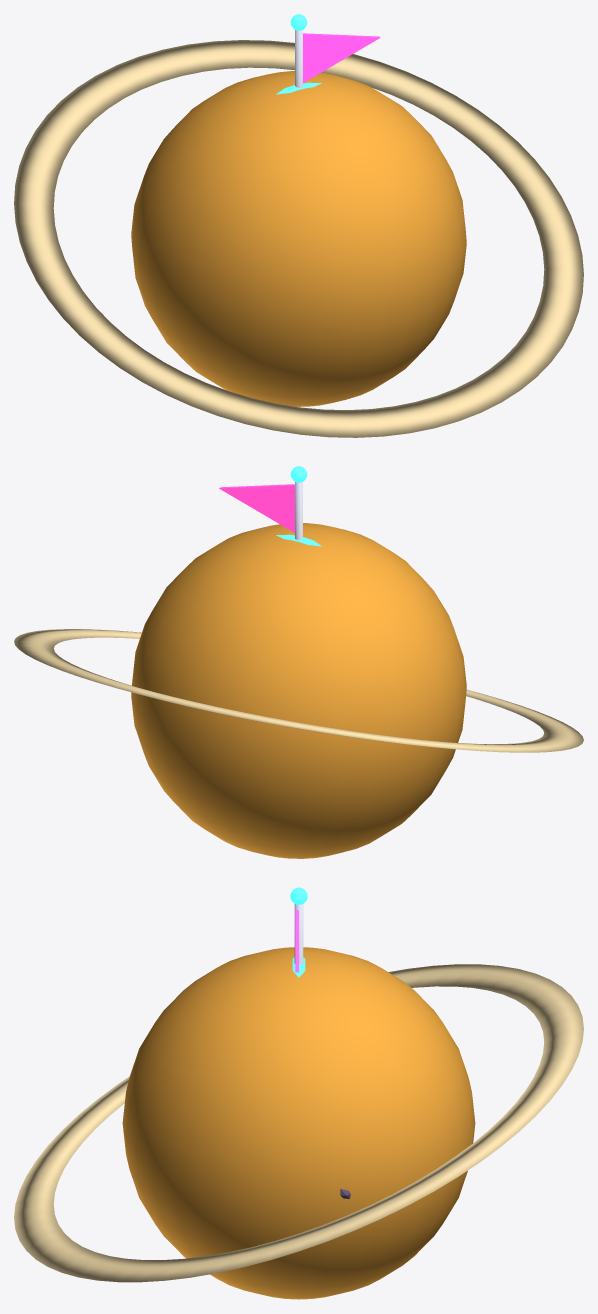
Rendered from golf.glb.
The picture shows the model from 3 angles, top to bottom: view 1: azimuth 30°, elevation 25°; view 2: azimuth 150°, elevation 25°; view 3: azimuth 270°, elevation 25°; orthographic projection. The views are drawn at different scales.
Visible parts, largest first — view 1: Planeta, Bandera; view 2: Planeta, Bandera; view 3: Planeta, Bandera.
Part boxes in pixels (x1,y1,x2,y2): Planeta: (14,40,583,437); Bandera: (290,14,380,87); Planeta: (14,523,583,858); Bandera: (219,466,307,539); Planeta: (14,947,583,1299); Bandera: (290,887,307,972).
Bounding box in the file's own units: 3.44 × 2.47 × 3.23.
